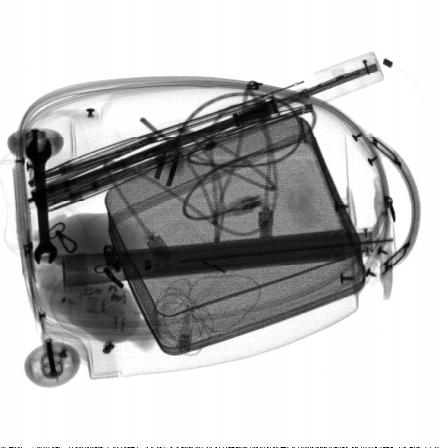Wrench: (25, 136, 58, 266)
